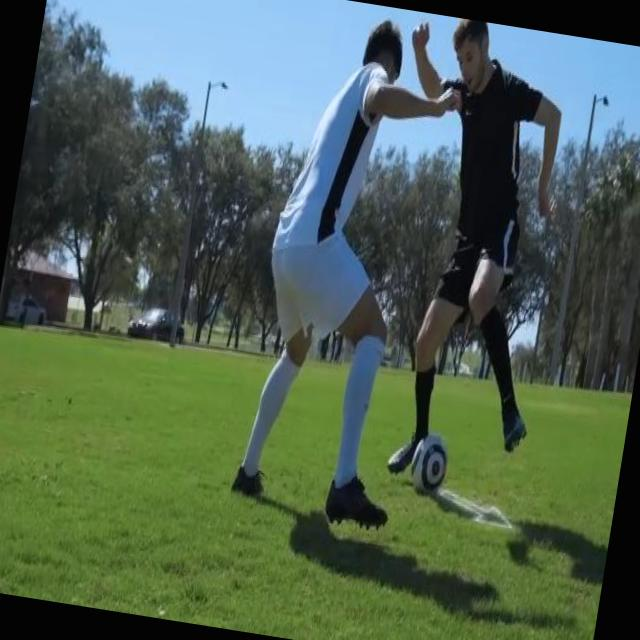Soccer Ball: (407, 430, 452, 500)
